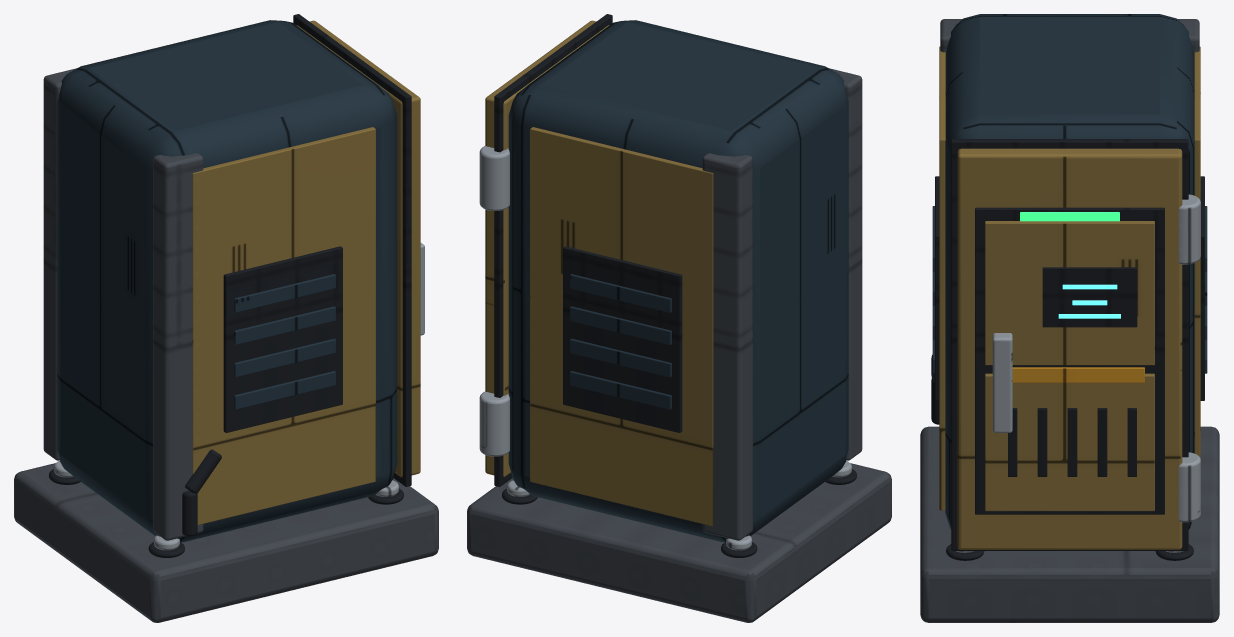
File: ops_distribution_cabinet_lod0.glb
3 views of the same model, side by side, from view 1: azimuth 30°, elevation 25°; view 2: azimuth 150°, elevation 25°; view 3: azimuth 270°, elevation 25° (orthographic). The views are drawn at different scales.
Visible parts, largest first — view 1: LOD0_Armor, LOD0_Mechanical, LOD0_Hull, LOD0_MechanicalDark, LOD0_MOTION_SERVICE_DOOR_Hull, LOD0_MOTION_SERVICE_DOOR_MechanicalDark, LOD0_BrushedMetal; view 2: LOD0_Armor, LOD0_Mechanical, LOD0_Hull, LOD0_MechanicalDark, LOD0_MOTION_SERVICE_DOOR_Hull, LOD0_BrushedMetal, LOD0_MOTION_SERVICE_DOOR_MechanicalDark; view 3: LOD0_MOTION_SERVICE_DOOR_Hull, LOD0_Armor, LOD0_Mechanical, LOD0_MOTION_SERVICE_DOOR_MechanicalDark, LOD0_Hull, LOD0_MechanicalDark, LOD0_BrushedMetal, LOD0_MOTION_SERVICE_DOOR_Livery, LOD0_MOTION_SERVICE_DOOR_BrushedMetal, LOD0_MOTION_SERVICE_DOOR_HOOK_NAV_STARBOARD, LOD0_MOTION_SERVICE_DOOR_Lights_Cyan.
Boxes of the visible parts, <box> form: LOD0_Armor: <box>57,20,397,542</box>; LOD0_Mechanical: <box>14,68,438,622</box>; LOD0_Hull: <box>192,127,375,524</box>; LOD0_MechanicalDark: <box>49,246,403,557</box>; LOD0_MOTION_SERVICE_DOOR_Hull: <box>296,20,420,477</box>; LOD0_MOTION_SERVICE_DOOR_MechanicalDark: <box>293,14,411,486</box>; LOD0_BrushedMetal: <box>54,461,398,550</box>; LOD0_Armor: <box>508,20,848,542</box>; LOD0_Mechanical: <box>467,68,891,622</box>; LOD0_Hull: <box>530,127,713,526</box>; LOD0_MechanicalDark: <box>502,246,856,557</box>; LOD0_MOTION_SERVICE_DOOR_Hull: <box>485,20,609,477</box>; LOD0_BrushedMetal: <box>479,146,851,550</box>; LOD0_MOTION_SERVICE_DOOR_MechanicalDark: <box>494,14,612,486</box>; LOD0_MOTION_SERVICE_DOOR_Hull: <box>957,148,1182,549</box>; LOD0_Armor: <box>932,14,1207,529</box>; LOD0_Mechanical: <box>920,19,1219,622</box>; LOD0_MOTION_SERVICE_DOOR_MechanicalDark: <box>951,139,1188,550</box>; LOD0_Hull: <box>939,46,1200,510</box>; LOD0_MechanicalDark: <box>931,176,1204,560</box>; LOD0_BrushedMetal: <box>956,194,1200,552</box>; LOD0_MOTION_SERVICE_DOOR_Livery: <box>1012,367,1144,382</box>; LOD0_MOTION_SERVICE_DOOR_BrushedMetal: <box>992,333,1012,432</box>; LOD0_MOTION_SERVICE_DOOR_HOOK_NAV_STARBOARD: <box>1020,212,1119,221</box>; LOD0_MOTION_SERVICE_DOOR_Lights_Cyan: <box>1058,284,1120,318</box>.
Size of the model in its own units: 1.49 by 2.15 by 1.2.
Materials: 8 (6 with a texture image).
